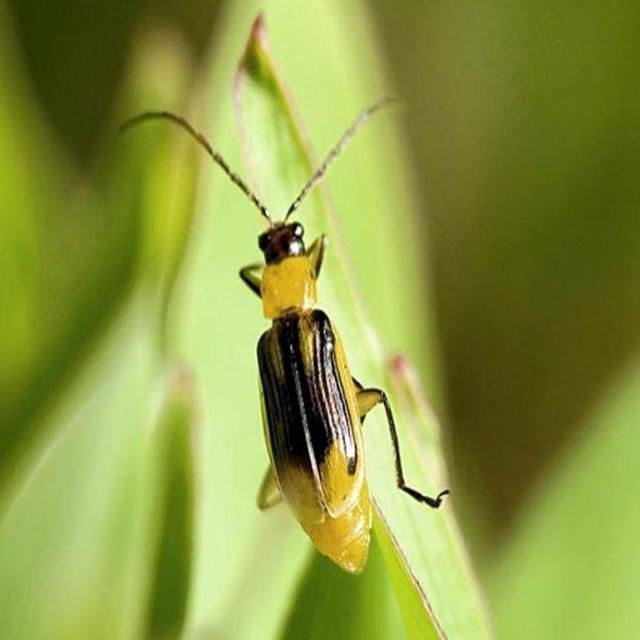trips: (134, 106, 490, 594)
